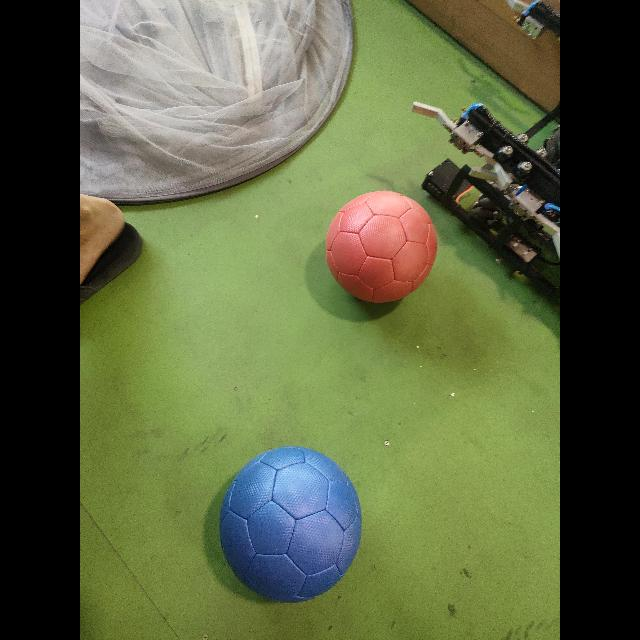B: (220, 446, 361, 602)
R: (325, 191, 438, 302)
